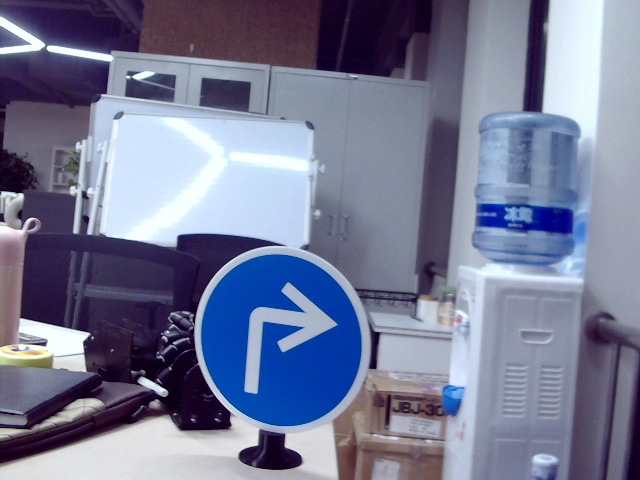turn_right: (241, 275, 333, 402)
